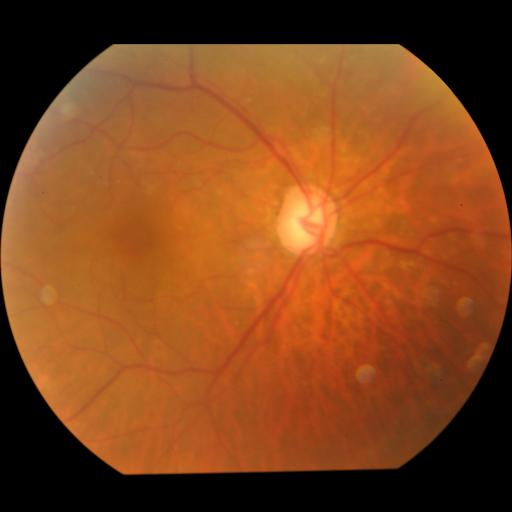Optic Cup: (289, 200, 325, 244)
Optic Disc: (274, 183, 337, 259)
